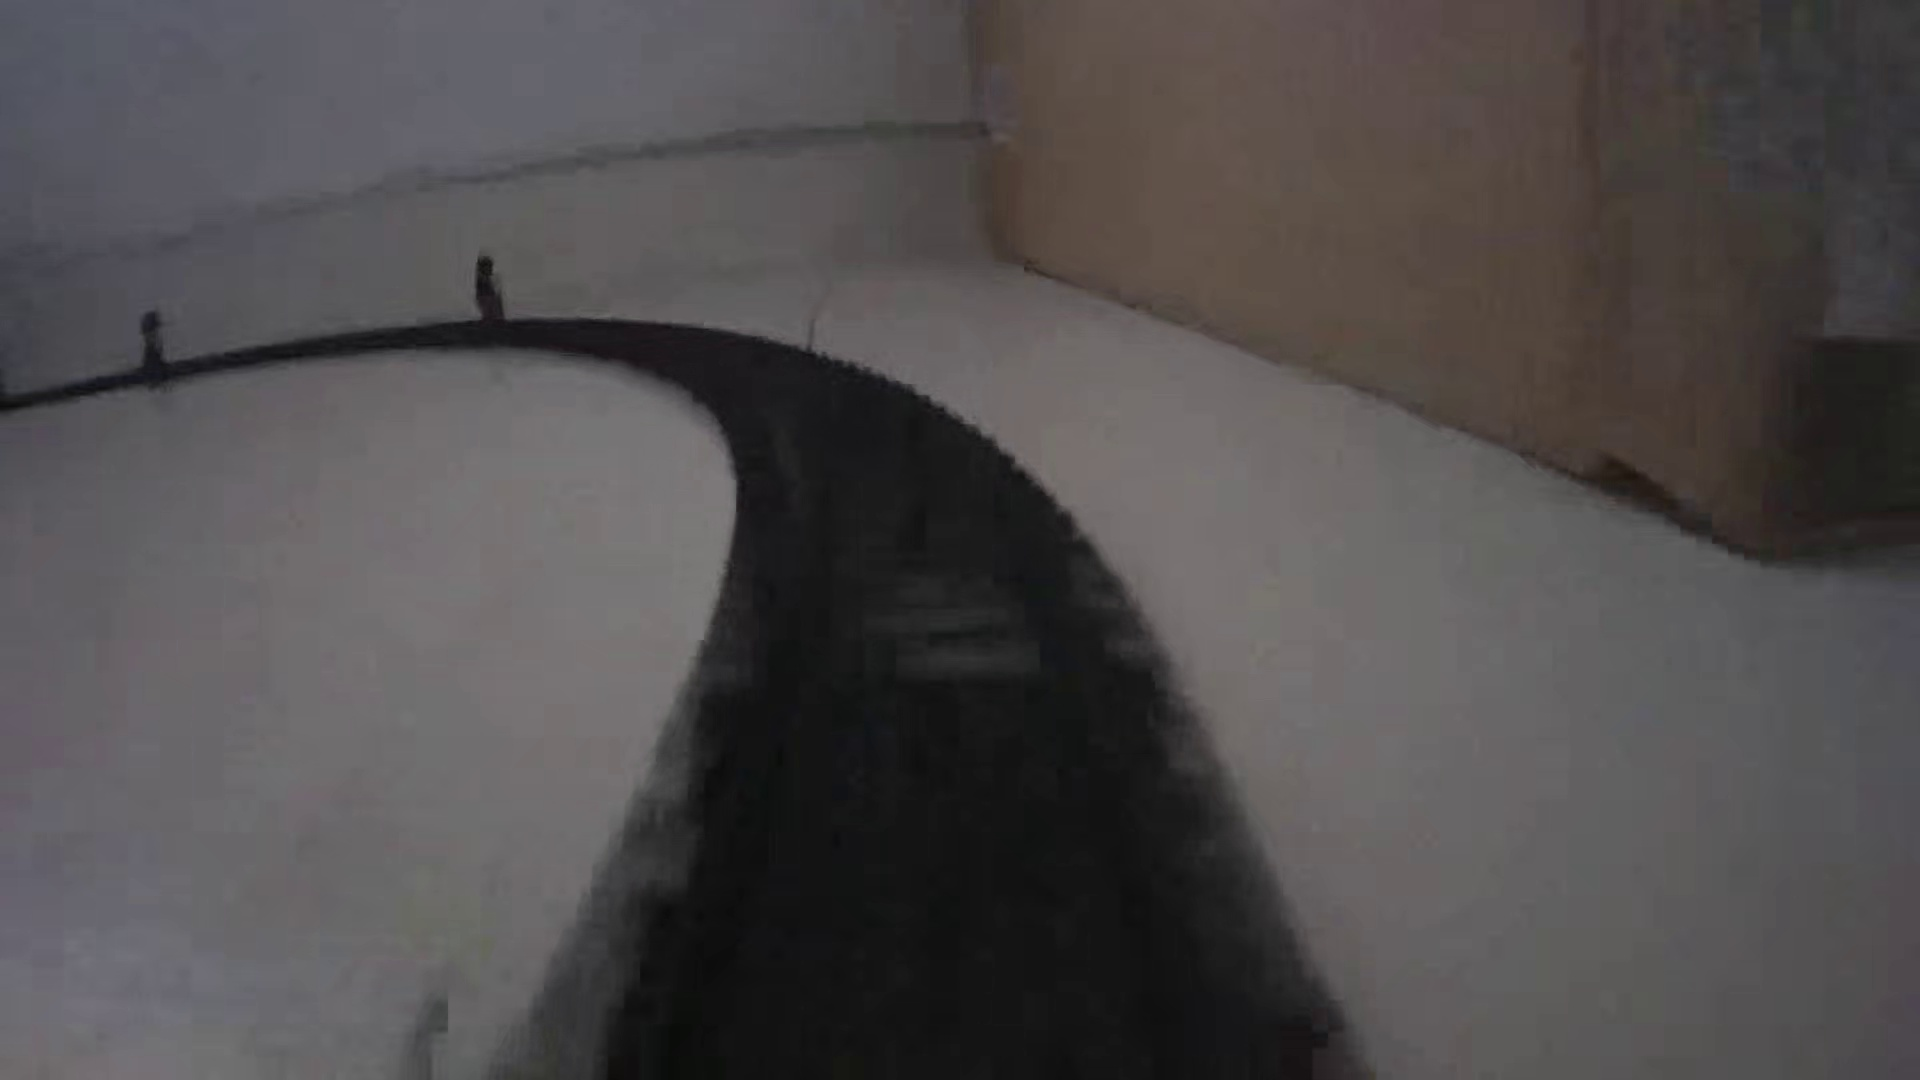people: (470, 250, 510, 332), (136, 309, 170, 384)
